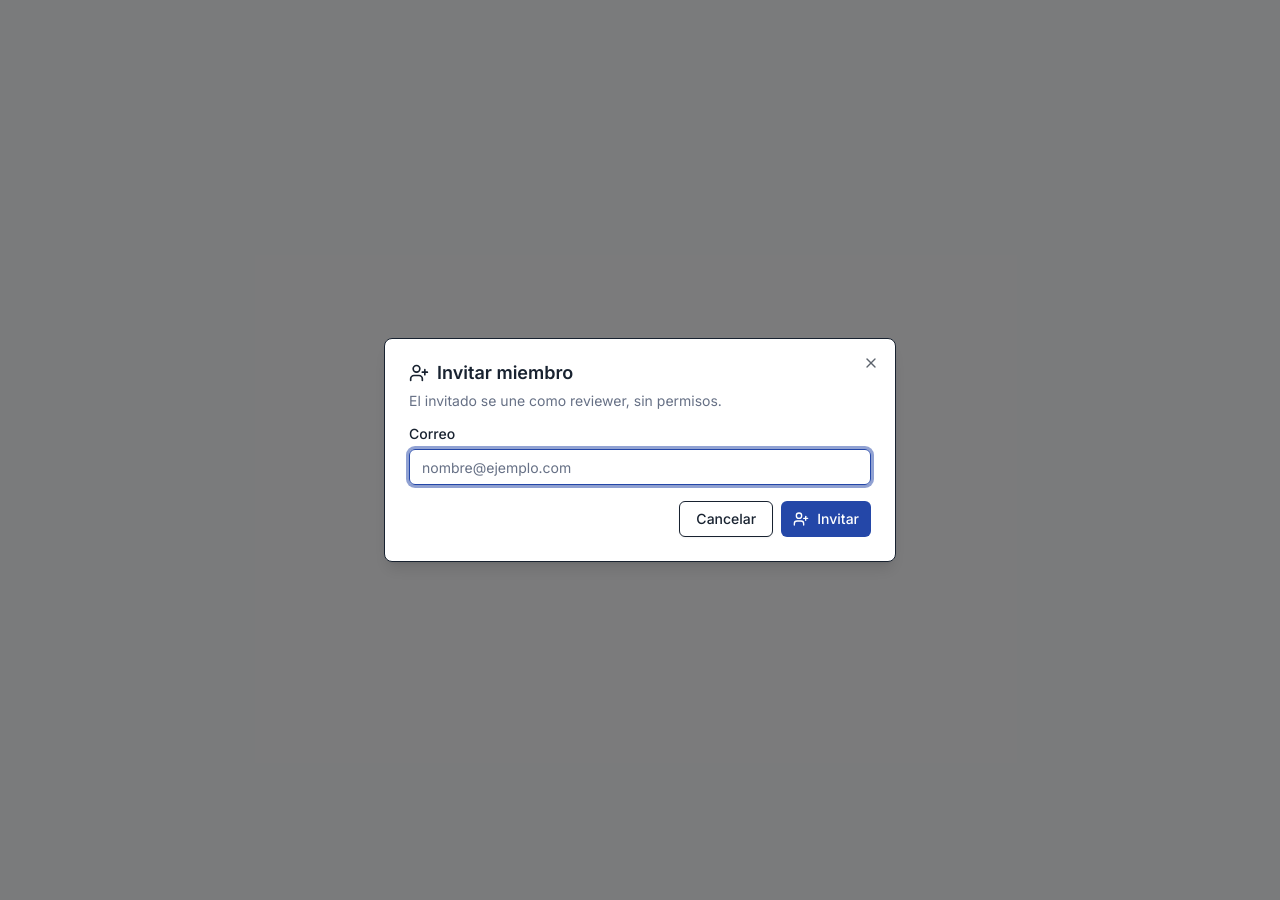
Test: InviteDialog (F3, S9) › 409 miembro existente: mensaje del backend
Type "ana@example.com" into the field labelled "Correo".
click(640, 467); type("ana@example.com")  # box [409,449,871,485]
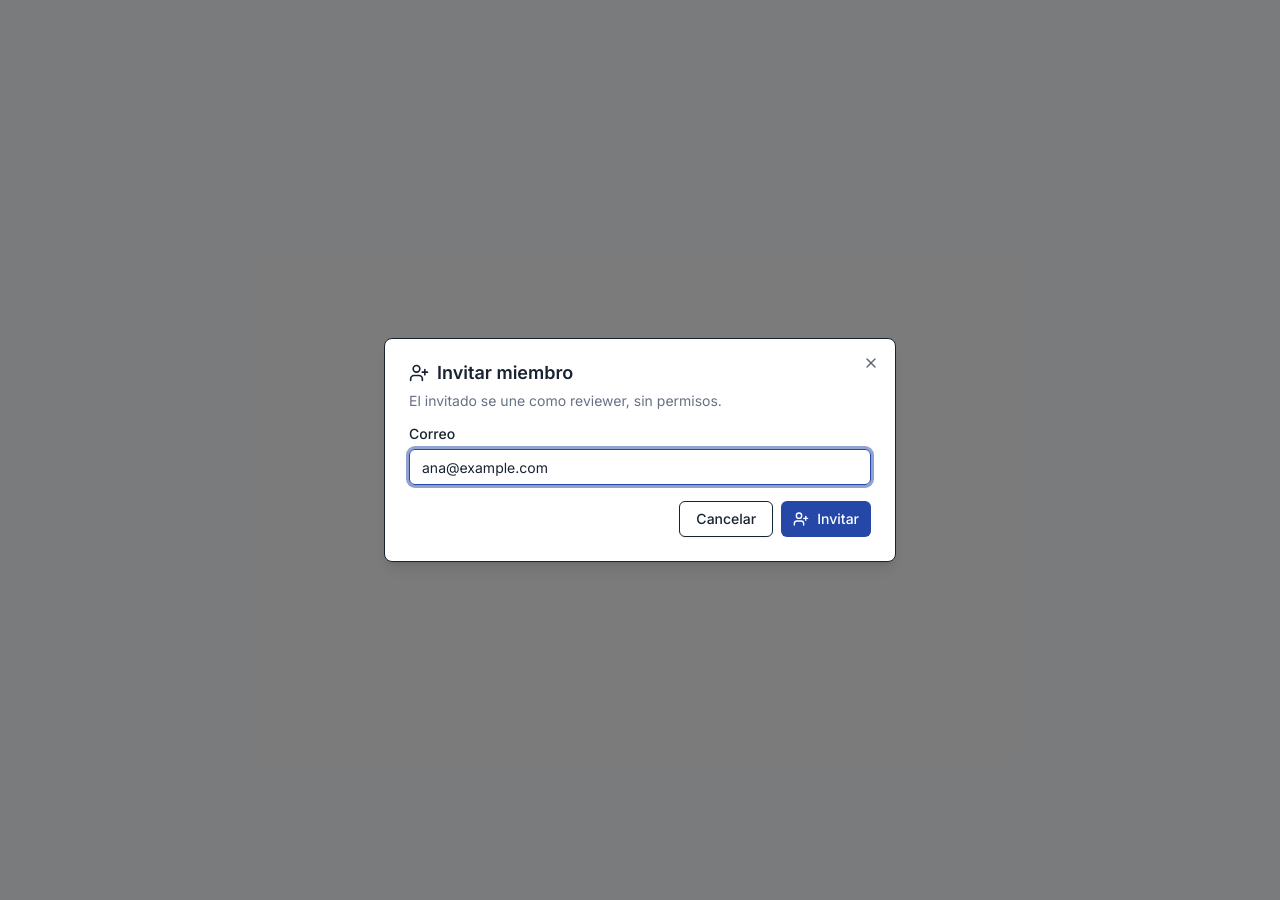
Click the button "Invitar".
click(826, 519)  # box [781,501,871,537]
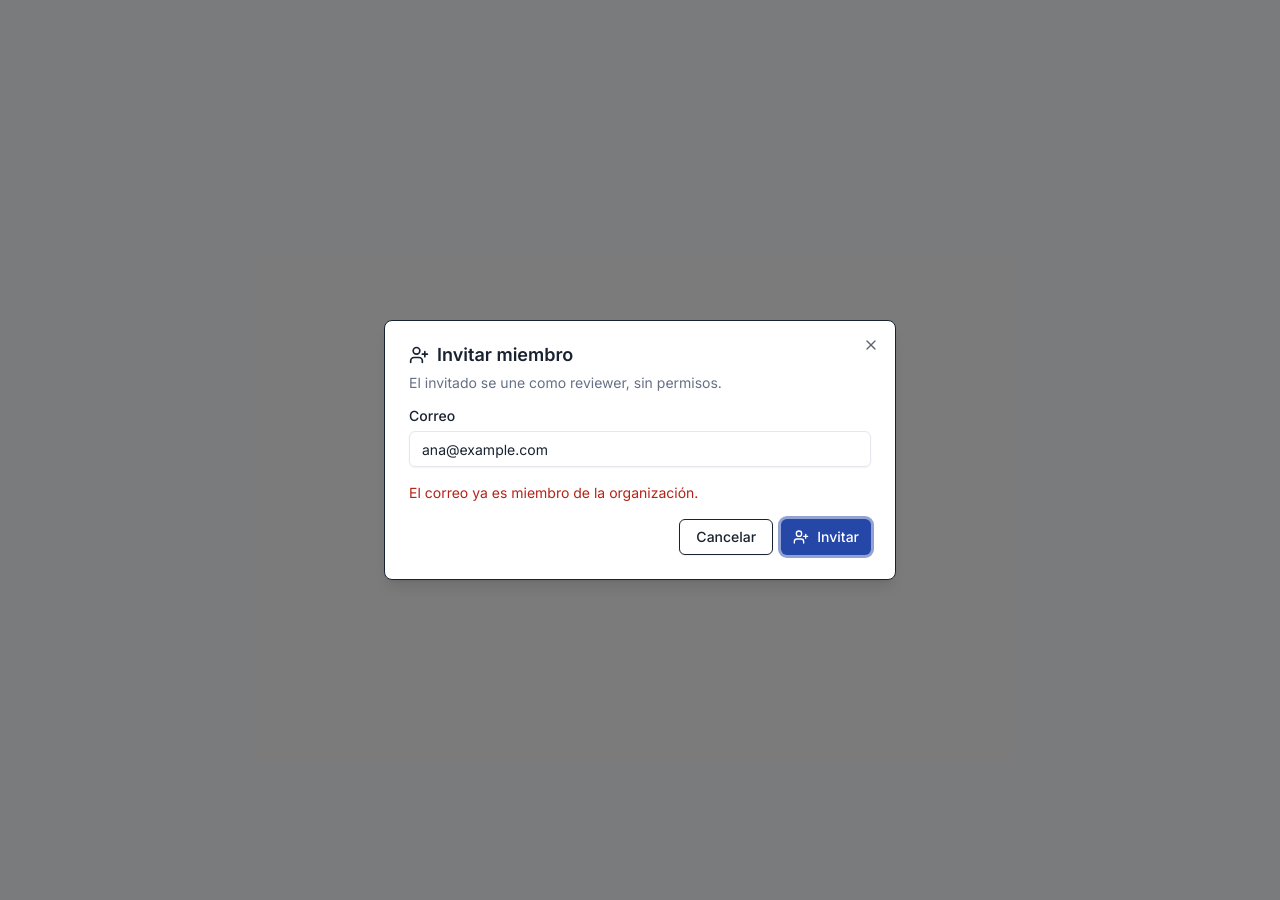
Result: the text "El correo ya es miembro de la organización." is shown at [409,484,698,501]
